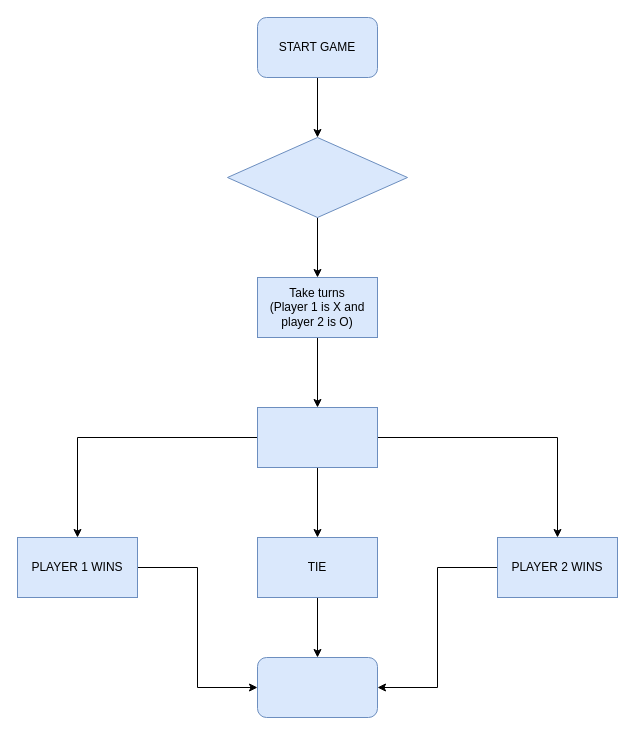
Some shapes in this 635 by 735 pixel diagram are drawn without their labels. The centre of each missing label's shape, as x and y in pixels:
After 9 moves there will be a result: [317,437]
Decide who goes first: [317,177]
END GAME: [317,687]
